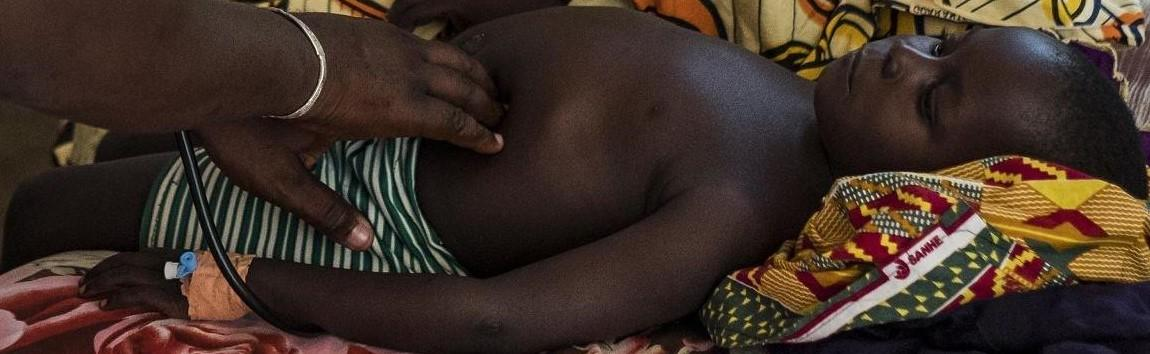Stunting: (824, 0, 1129, 213)
